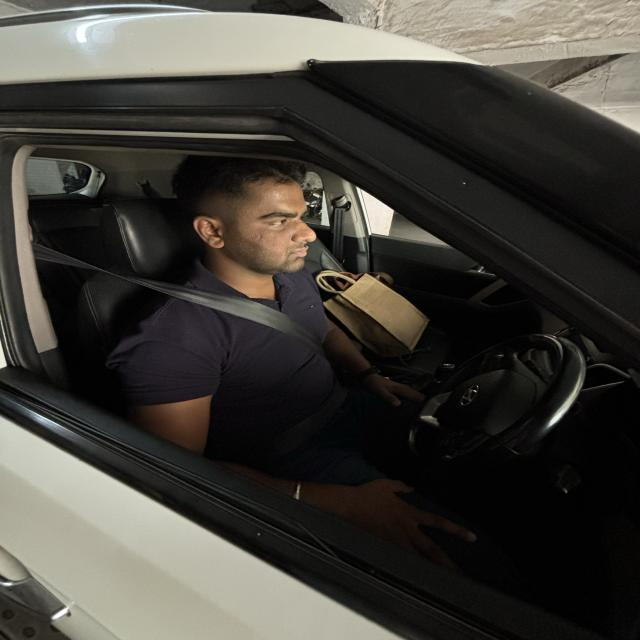seatbelt: (33, 231, 375, 449)
